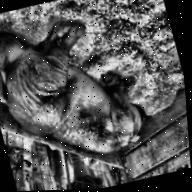boar: (0, 5, 155, 179)
